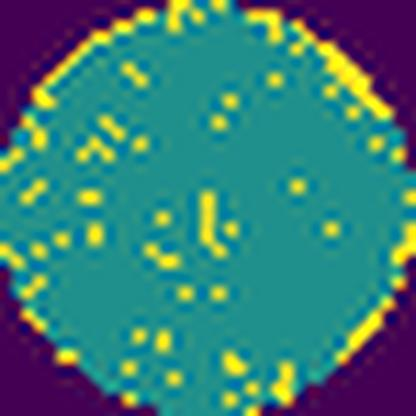Edge-Loc: (330, 208, 415, 378), (294, 0, 398, 129), (249, 5, 290, 42)
